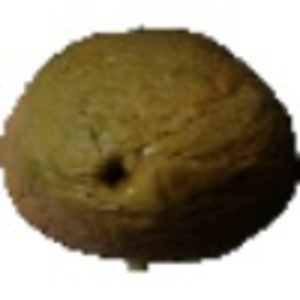mamão: (3, 22, 294, 262)
